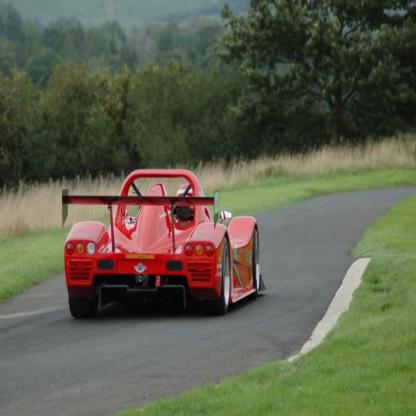Car: (53, 160, 276, 343)
